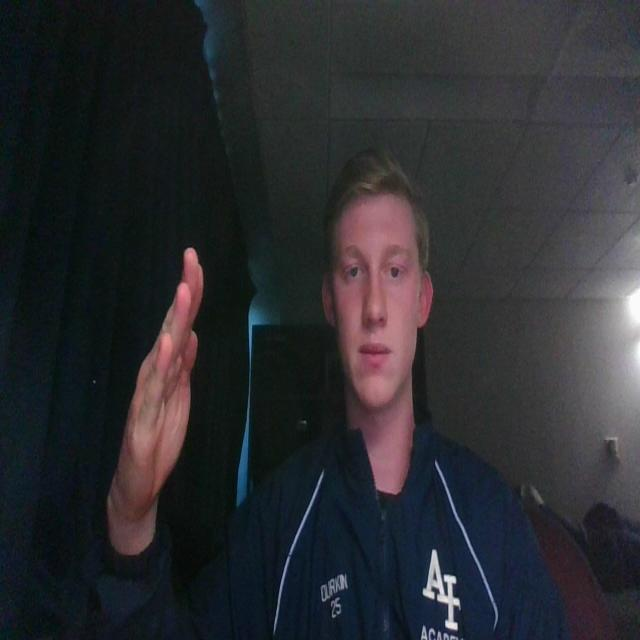paper: (102, 240, 212, 574)
